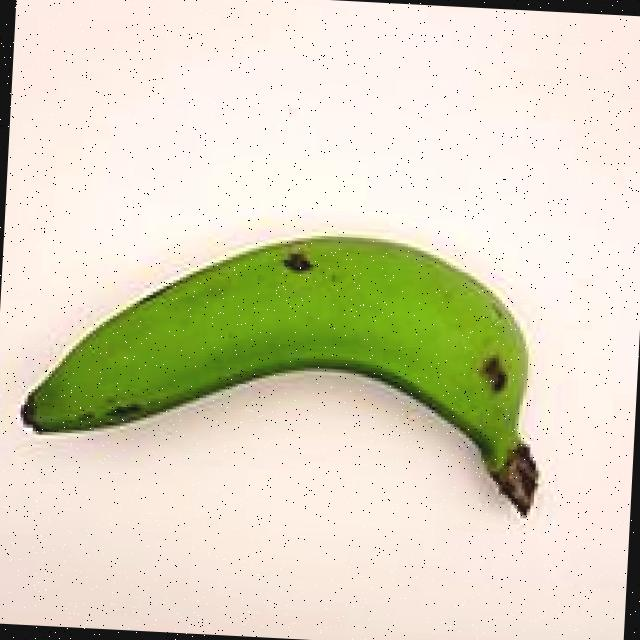Raw: (0, 181, 578, 548)
